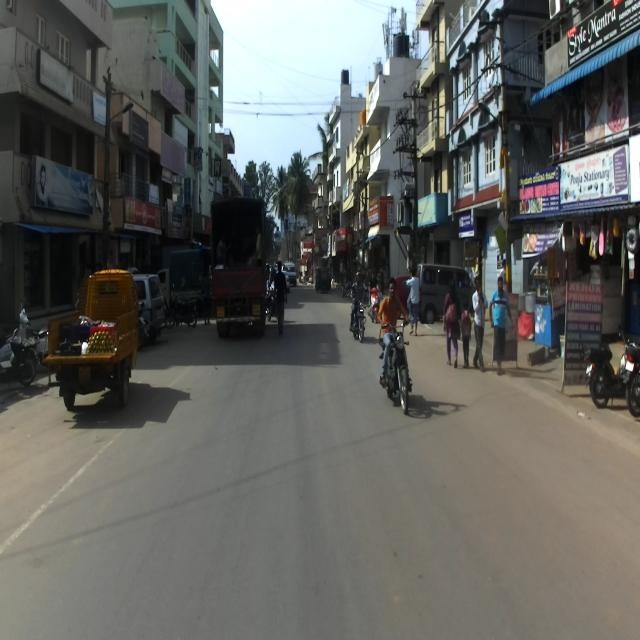motorcycle ahead at: (376, 332, 417, 412)
truck ahead at: (47, 265, 140, 411), (209, 190, 271, 347)
